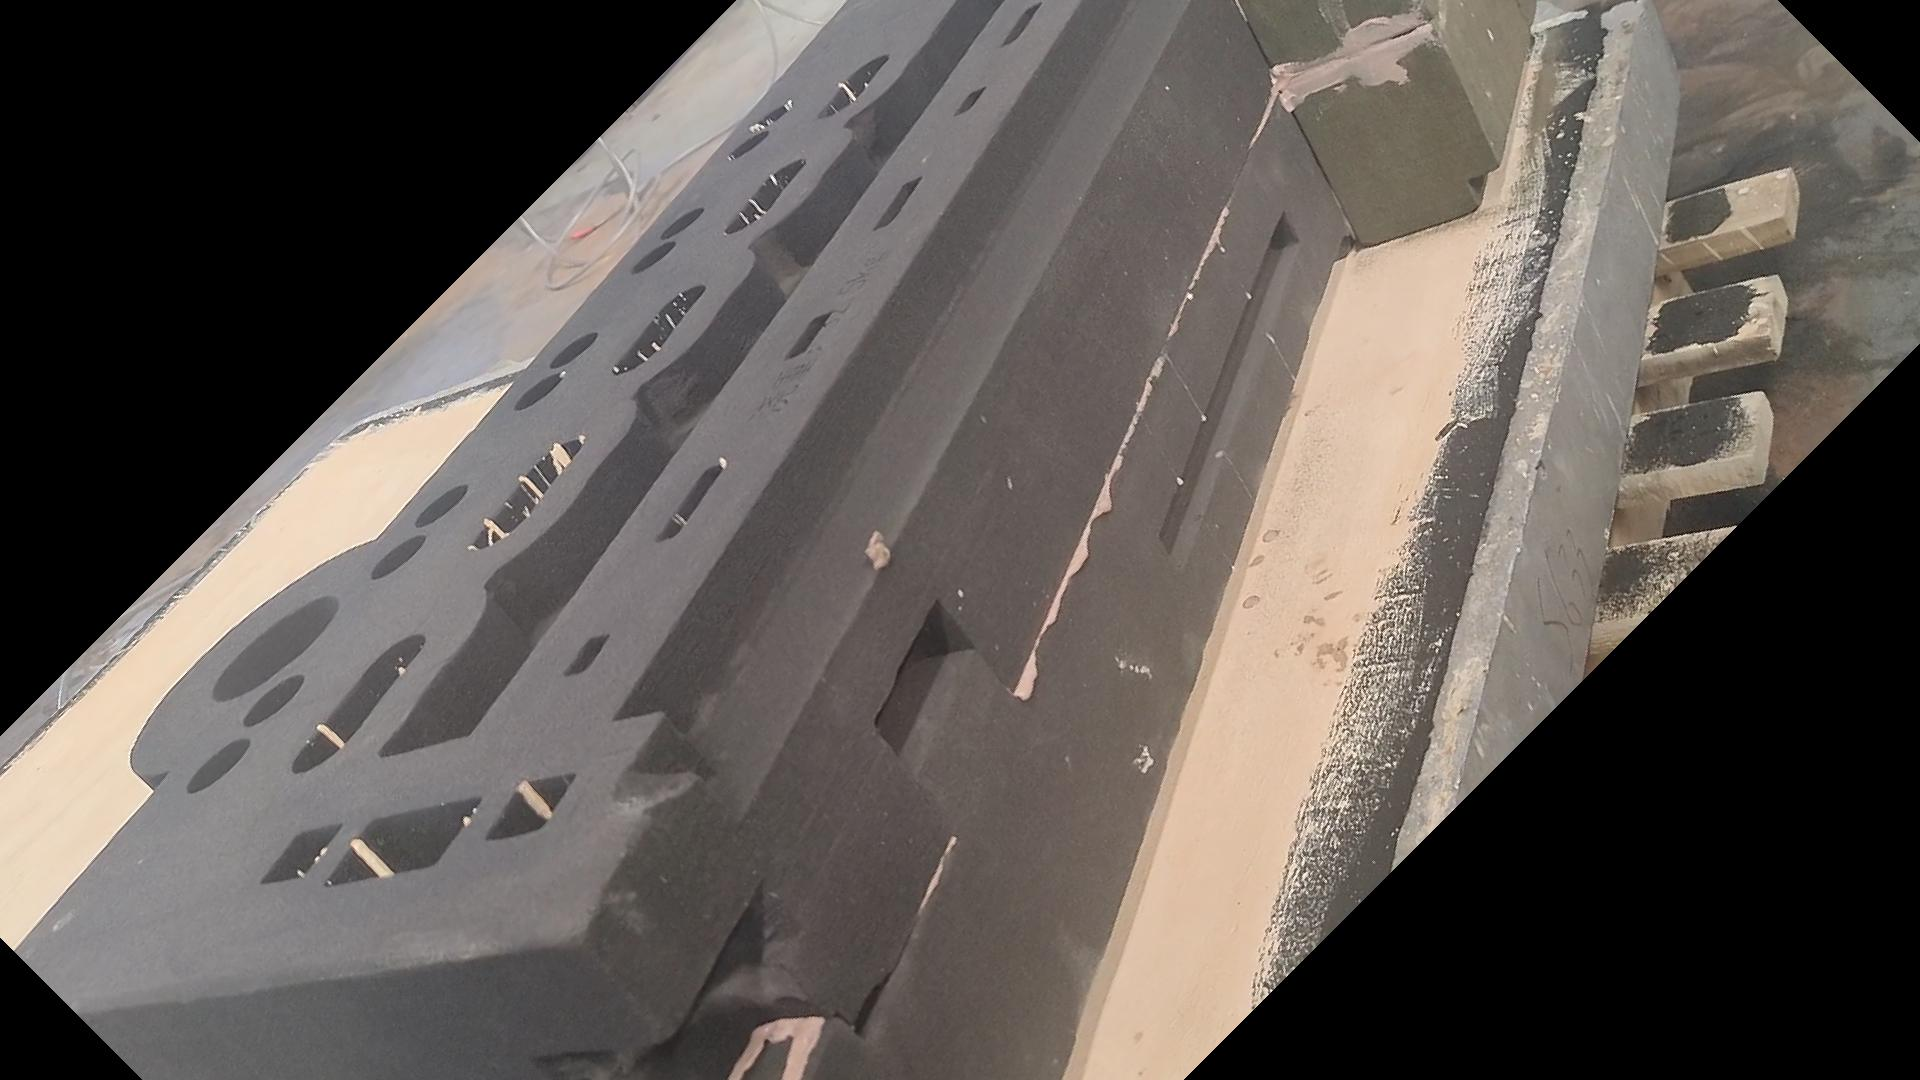pouring hole: (211, 595, 339, 703)
